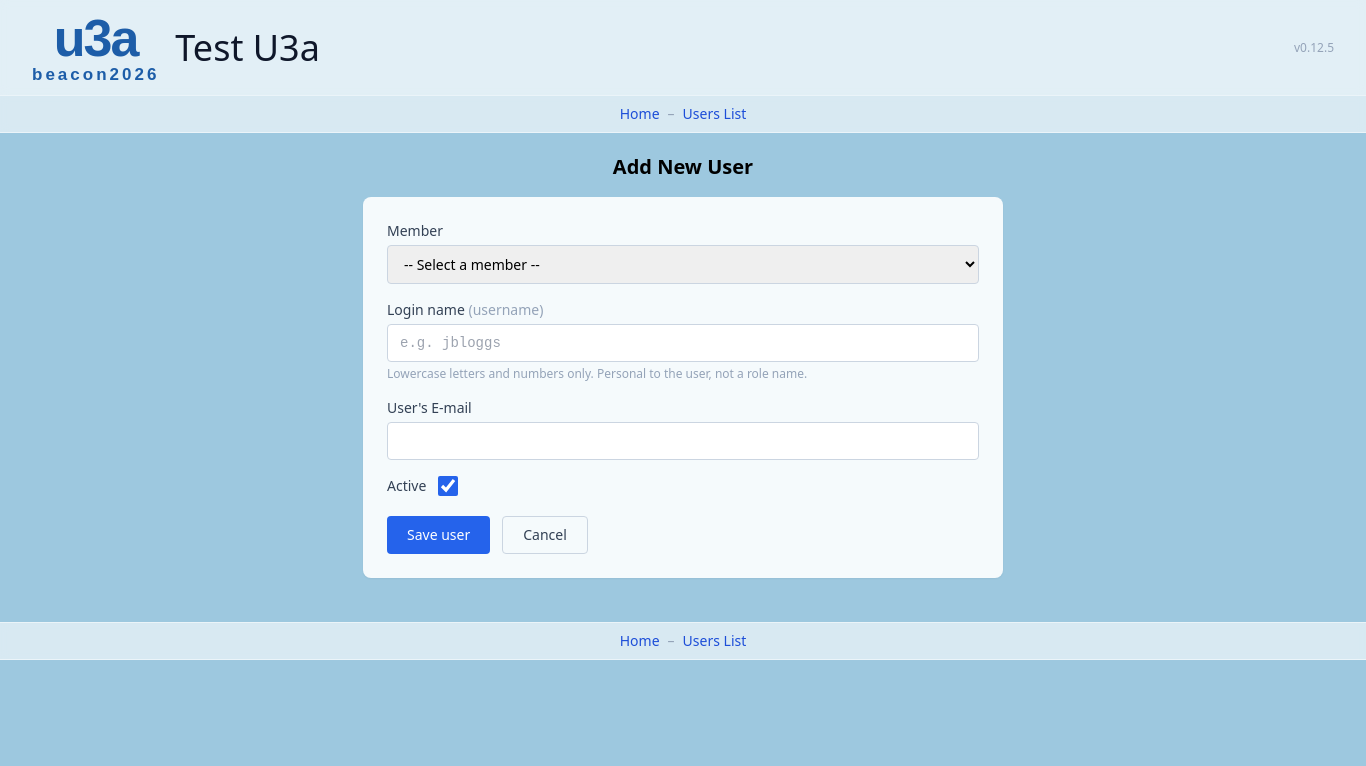
Test: UserEditor page (new user) › creates the user and shows the temporary-password notice
// Member dropdown is populated from availableMembers once loaded.
Select "Bloggs, Joe (joe@x.com)" in the dropdown labelled "Member" at (683, 264), box [387,245,979,284]
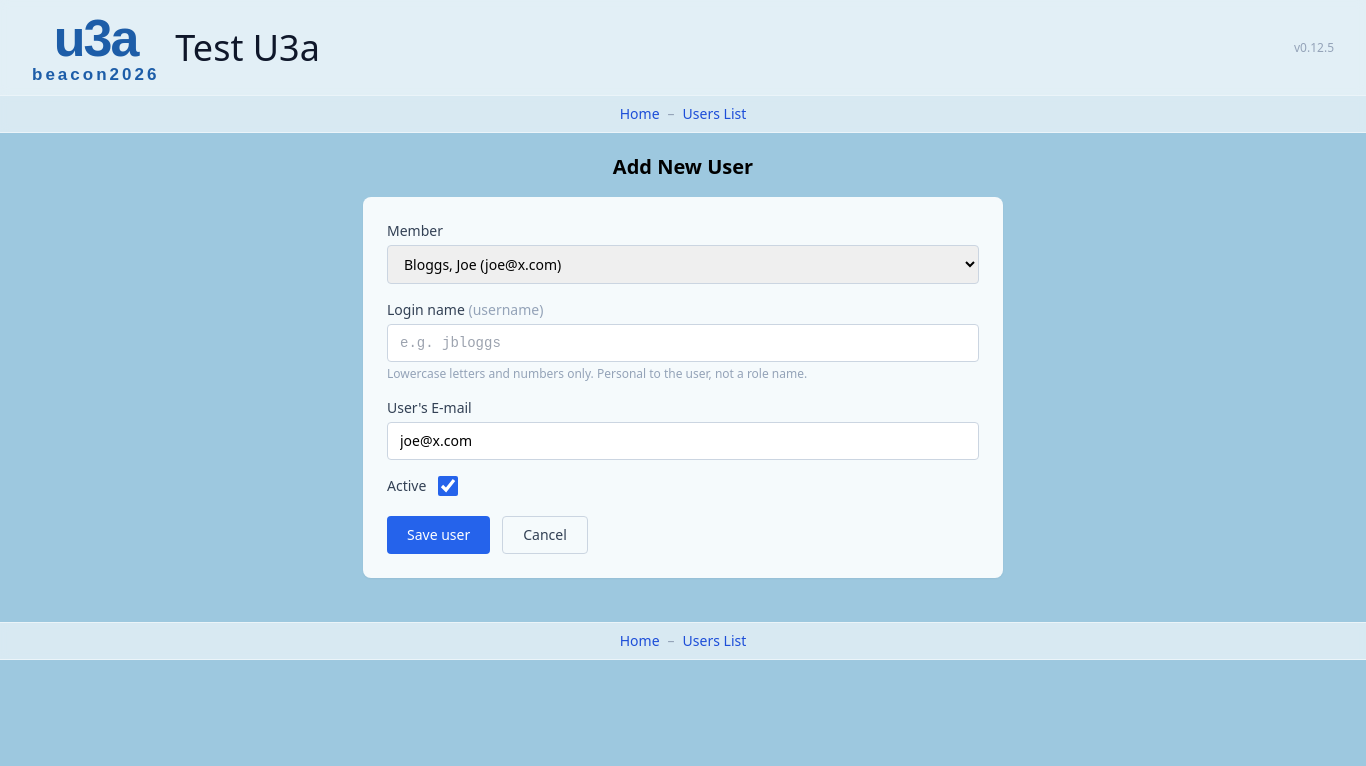
Type "jbloggs" into the field labelled "Login name (username)".
click(683, 343); type("jbloggs")  # box [387,324,979,362]
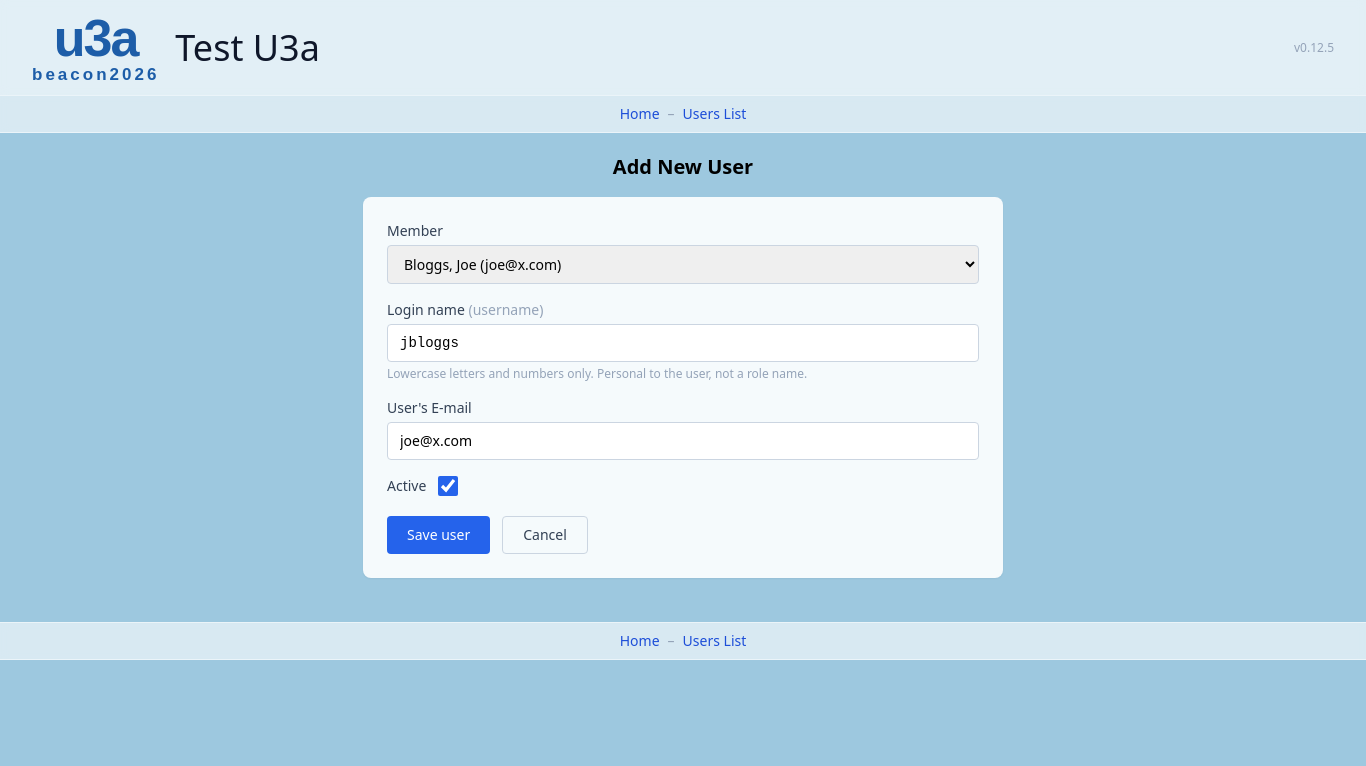
Click the button "Save user".
click(439, 535)  # box [387,516,490,554]
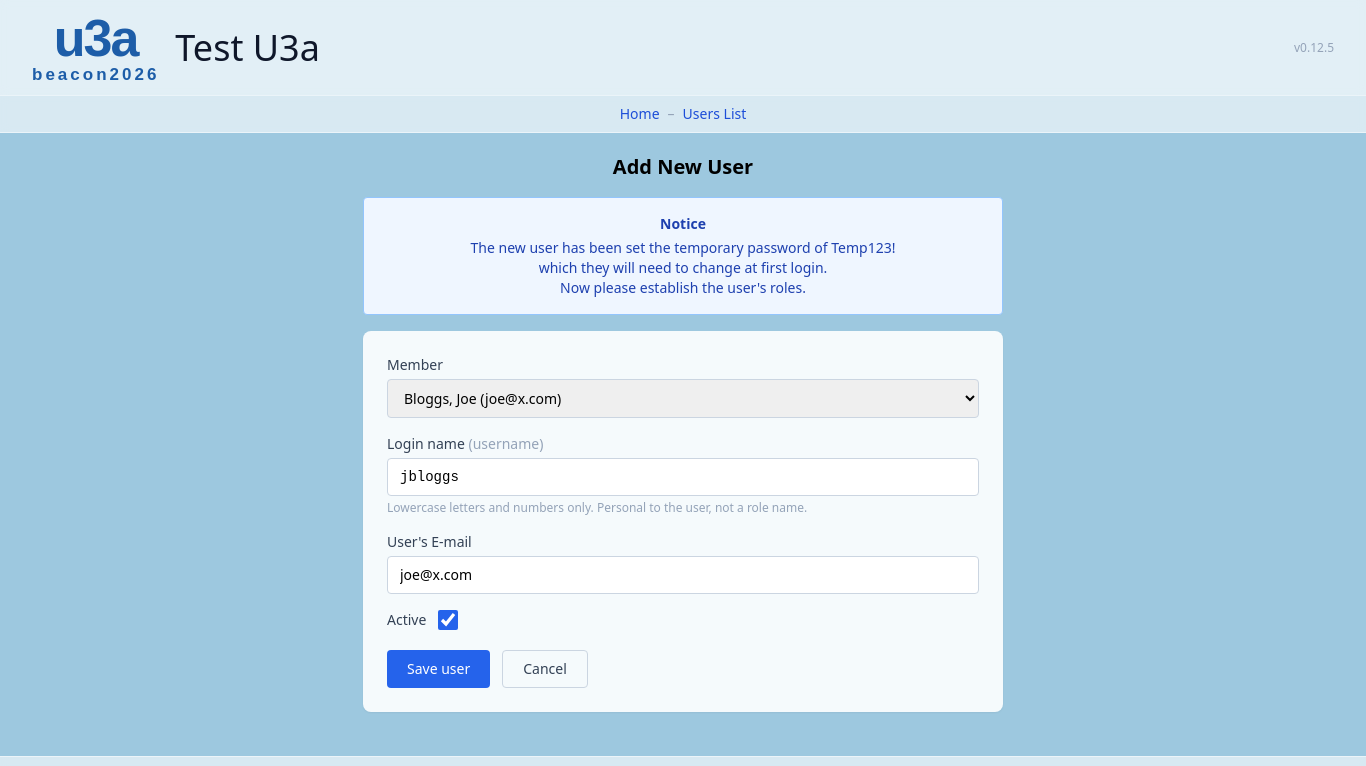
Check: the text "temporary password of Temp123!" is shown, box [470,238,895,297]
